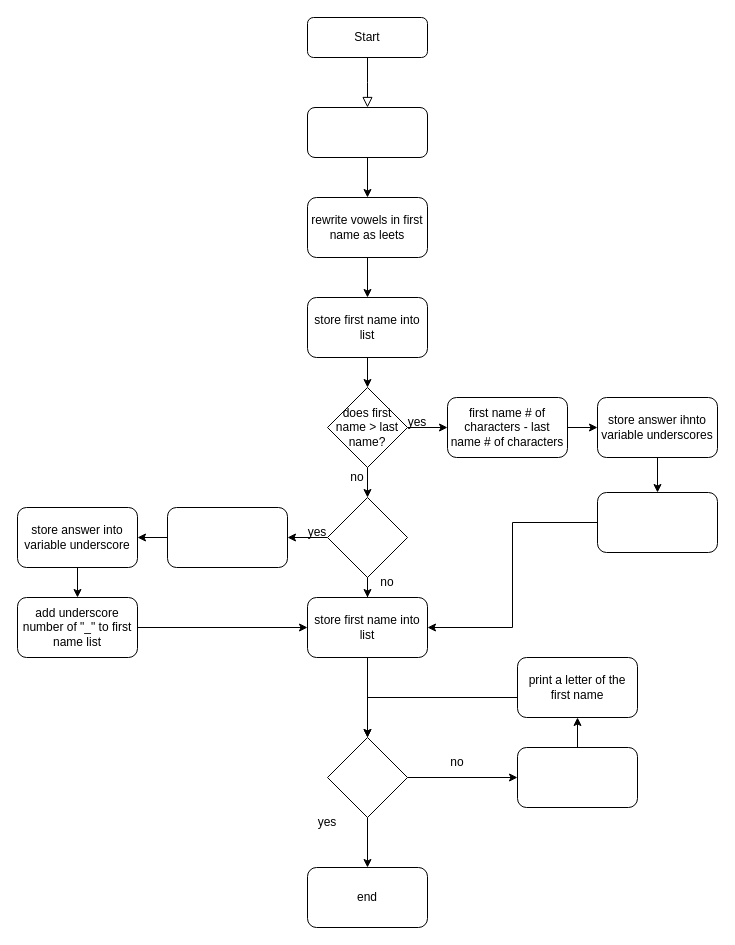
Some shapes in this 735 by 945 pixel diagram are drawn without their labels. Each missing label, with the centre of its shape:
add underscore number of "_" to last name list: point 657,522
does first name < last name?: point 367,537
is password done?: point 367,777
last name # of characters - first name # if characters: point 227,537
print a letter of the last name: point 577,777
Store last name into list: point 367,132
